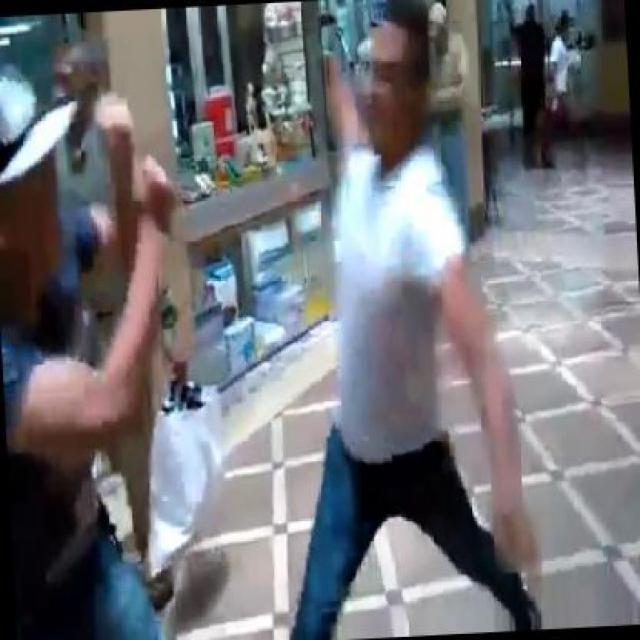fight: (217, 0, 548, 638)
